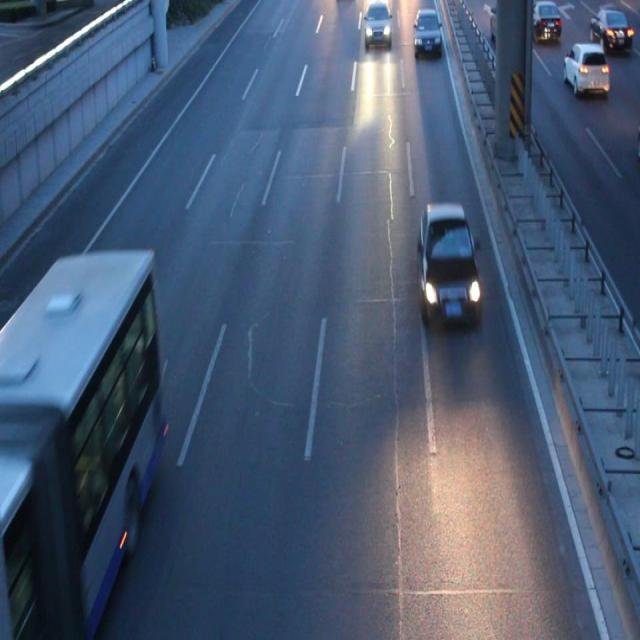car: (419, 205, 480, 324), (564, 44, 608, 92), (589, 8, 630, 50), (489, 1, 523, 43), (522, 1, 559, 38), (414, 9, 440, 53), (366, 2, 389, 48)
van: (0, 253, 161, 640)
